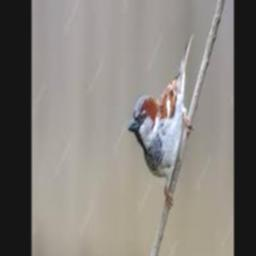Sparrow: (128, 33, 194, 209)
